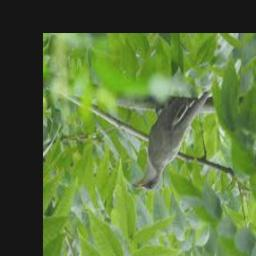Cuckoo: (132, 92, 209, 191)
